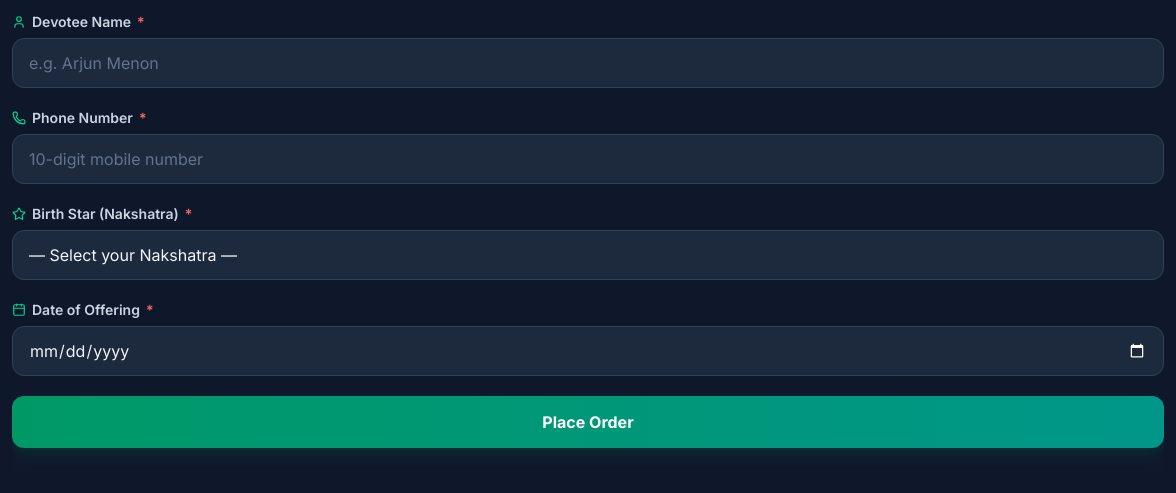
Test case: Phase 2: Cart and Order Form › Order Form Validation › validates devotee name requiring at least 2 characters
Type "A" into the field labelled "Devotee Name *" at coordinates (588, 63), box [12,38,1164,88]
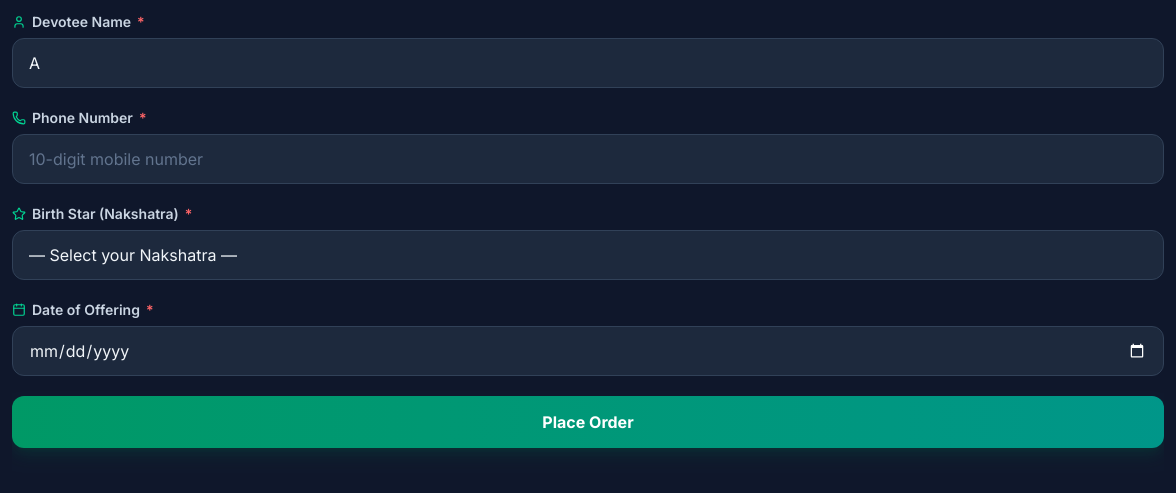
Leave the field labelled "Devotee Name *", box [12,38,1164,88]
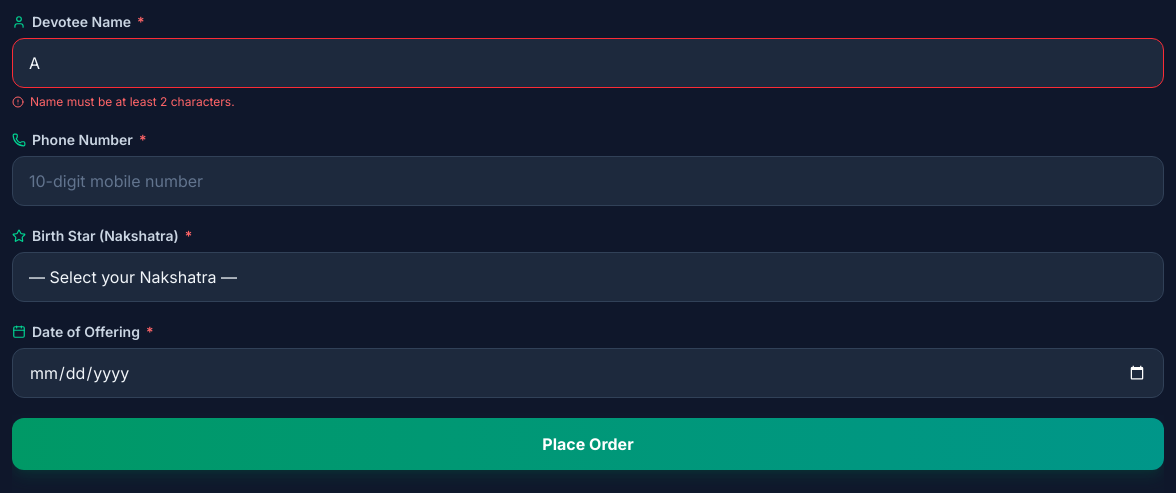
Expected: the text "Name must be at least 2 characters." is shown, [12,94,235,109]
